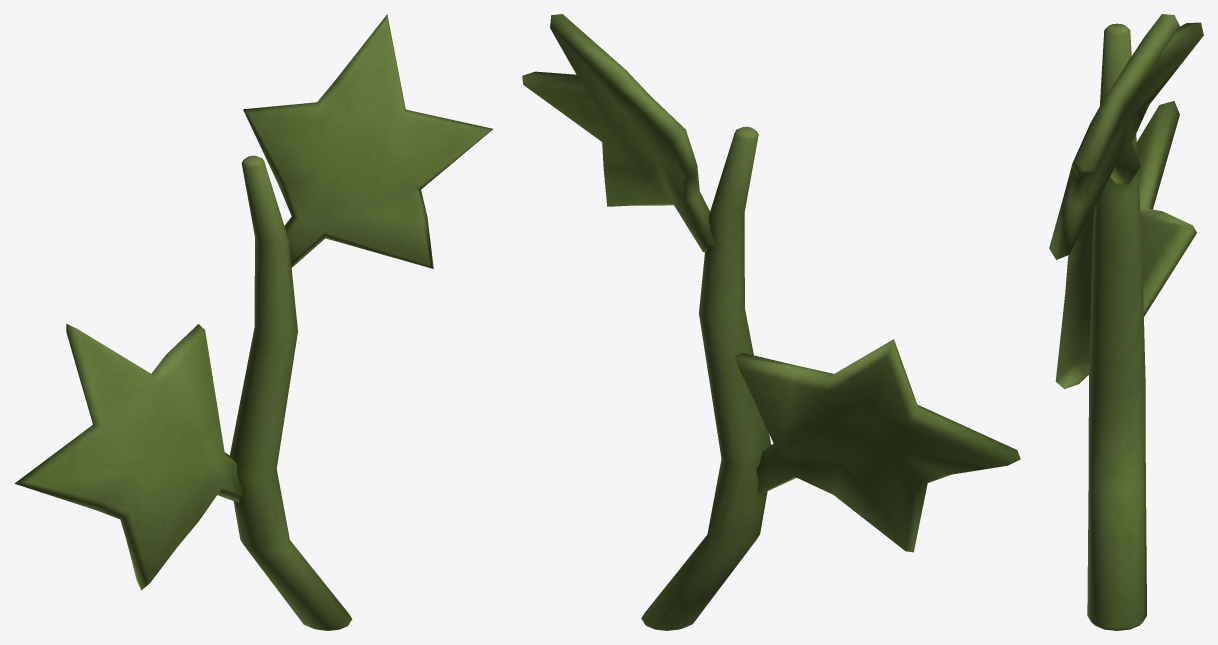
Rendered from sarmask.fbx.
The picture shows the model from 3 angles, left to right: view 1: azimuth 30°, elevation 25°; view 2: azimuth 150°, elevation 25°; view 3: azimuth 270°, elevation 25°; orthographic projection. The views are drawn at different scales.
Visible parts, largest first — view 1: sarmasık; view 2: sarmasık; view 3: sarmasık.
Part boxes in pixels (x1=…): sarmasık: x1=14, y1=14, x2=492, y2=630; sarmasık: x1=522, y1=14, x2=1020, y2=630; sarmasık: x1=1049, y1=14, x2=1203, y2=630.
Bounding box in the file's own units: 150 × 171 × 36.85.
